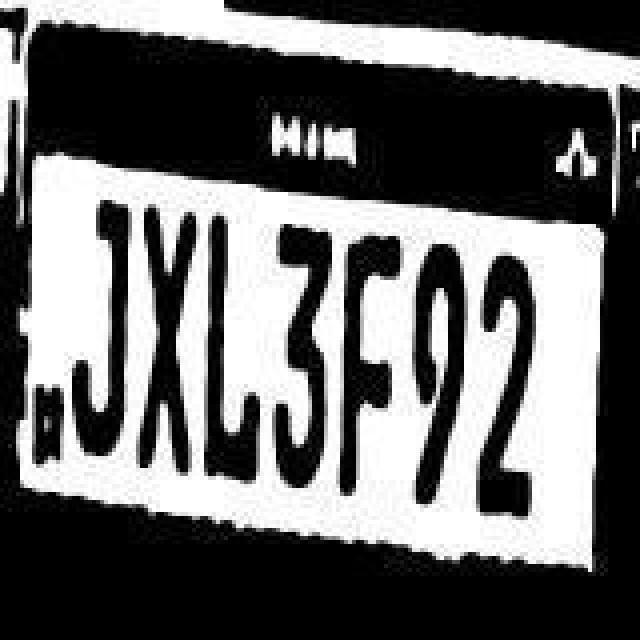2: (472, 246, 536, 522)
3: (268, 218, 332, 494)
9: (408, 230, 472, 514)
F: (334, 222, 402, 498)
J: (68, 180, 132, 476)
L: (202, 216, 262, 488)
X: (136, 202, 200, 478)
